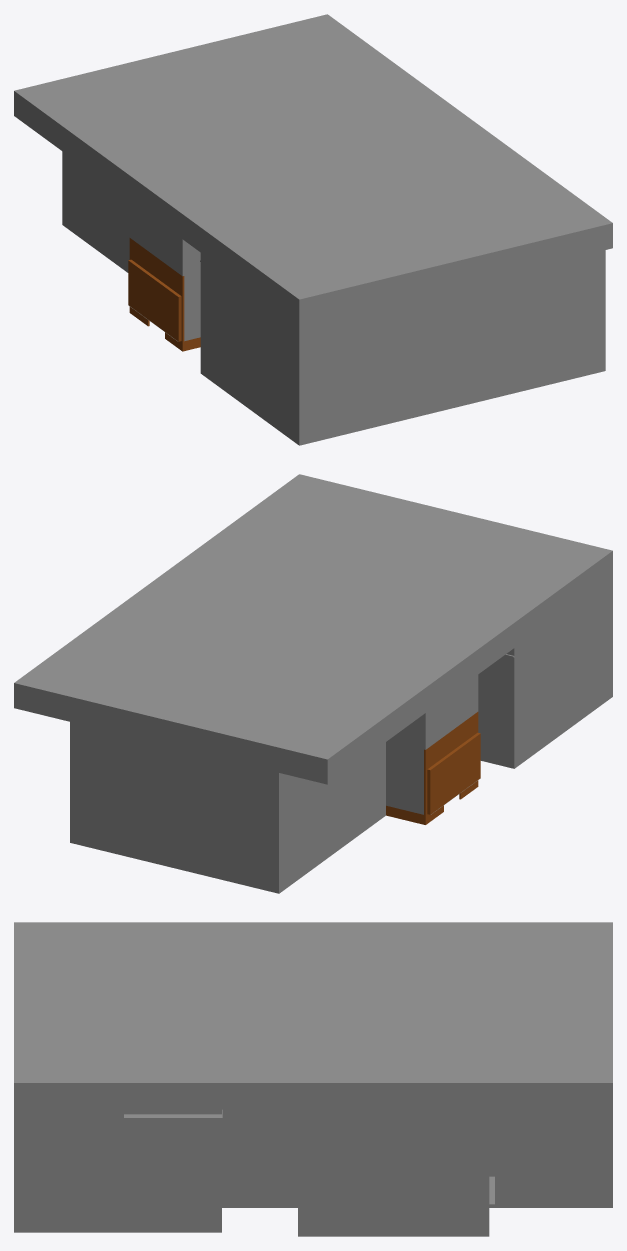
File: AUDITORIO.FBX
3 views of the same model, one above another, from view 1: azimuth 30°, elevation 25°; view 2: azimuth 150°, elevation 25°; view 3: azimuth 270°, elevation 25° (orthographic). The views are drawn at different scales.
Parts seen in each view (by area): view 1: Techo, Walls; view 2: Techo, Walls; view 3: Techo, Walls.
Part boxes in pixels (x1,y1,x2,y2): Techo: (14, 14, 612, 326); Walls: (62, 151, 605, 445); Techo: (14, 474, 612, 784); Walls: (70, 576, 612, 893); Techo: (14, 922, 612, 1119); Walls: (14, 1109, 612, 1236).
Size of the model in its own units: 1984 by 883 by 3126.
